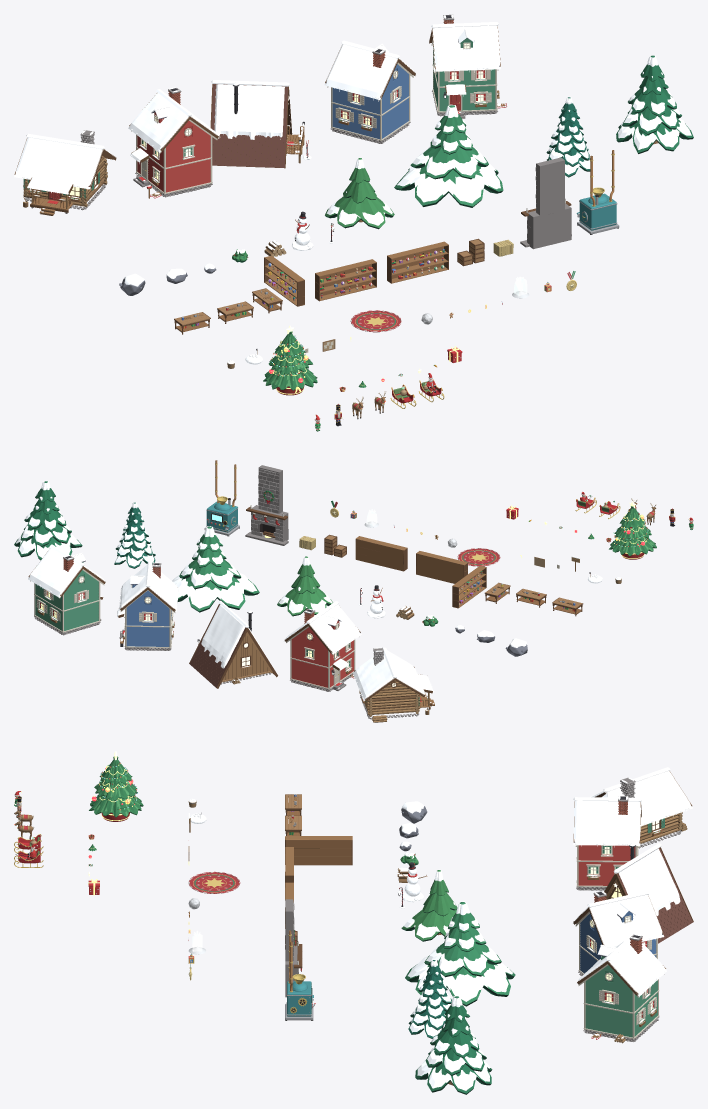
Rendered from Vitrina_todos_los_modelos.glb.
3 renders of one model, top to bottom at view 1: azimuth 30°, elevation 25°; view 2: azimuth 150°, elevation 25°; view 3: azimuth 270°, elevation 25°, orthographic. The views are drawn at different scales.
Parts seen in each view (by area): view 1: VT_Casa_2_CasaA, VT_Casa_3_CasaAzul, VT_Casa_1_CasaRoja, VT_Casa_4_CasaVerde, VT_Casa_0_CasaTroncos, VT_Pino_001, VT_Pino_003, VT_Chimenea, VT_Pino_000, VT_Pino_002, VT_Repisa_Sur_B, VT_Repisa_Sur_A (+4 smaller); view 2: VT_Casa_4_CasaVerde, VT_Casa_1_CasaRoja, VT_Casa_3_CasaAzul, VT_Casa_2_CasaA, VT_Casa_0_CasaTroncos, VT_Pino_001, VT_Pino_003, VT_Chimenea, VT_Pino_000, VT_Pino_002, VT_Repisa_Sur_B, VT_Maquina (+5 smaller); view 3: VT_Casa_4_CasaVerde, VT_Casa_1_CasaRoja, VT_Pino_001, VT_Casa_3_CasaAzul, VT_Pino_003, VT_Casa_2_CasaA, VT_Casa_0_CasaTroncos, VT_Pino_002, VT_Repisa_Oeste, VT_Pino_000, VT_Maquina, VT_Chimenea (+4 smaller).
Boxes of the visible parts, left/top/right/bottom form: VT_Casa_2_CasaA: left=210, top=80, right=311, bottom=168; VT_Casa_3_CasaAzul: left=324, top=40, right=416, bottom=143; VT_Casa_1_CasaRoja: left=128, top=87, right=218, bottom=198; VT_Casa_4_CasaVerde: left=429, top=14, right=506, bottom=118; VT_Casa_0_CasaTroncos: left=14, top=130, right=116, bottom=215; VT_Pino_001: left=394, top=104, right=503, bottom=207; VT_Pino_003: left=616, top=55, right=693, bottom=153; VT_Chimenea: left=520, top=157, right=571, bottom=249; VT_Pino_000: left=325, top=158, right=394, bottom=229; VT_Pino_002: left=546, top=96, right=590, bottom=177; VT_Repisa_Sur_B: left=387, top=241, right=448, bottom=283; VT_Repisa_Sur_A: left=315, top=259, right=376, bottom=301; VT_Casa_4_CasaVerde: left=28, top=544, right=106, bottom=635; VT_Casa_1_CasaRoja: left=284, top=601, right=361, bottom=691; VT_Casa_3_CasaAzul: left=117, top=561, right=178, bottom=650; VT_Casa_2_CasaA: left=189, top=600, right=277, bottom=688; VT_Casa_0_CasaTroncos: left=353, top=647, right=434, bottom=722; VT_Pino_001: left=172, top=526, right=259, bottom=612; VT_Pino_003: left=14, top=480, right=82, bottom=560; VT_Chimenea: left=245, top=465, right=288, bottom=545; VT_Pino_000: left=277, top=556, right=332, bottom=616; VT_Pino_002: left=114, top=502, right=155, bottom=568; VT_Repisa_Sur_B: left=355, top=536, right=407, bottom=571; VT_Maquina: left=204, top=460, right=239, bottom=536; VT_Casa_4_CasaVerde: left=577, top=932, right=666, bottom=1043; VT_Casa_1_CasaRoja: left=573, top=792, right=641, bottom=890; VT_Pino_001: left=405, top=901, right=515, bottom=1006; VT_Casa_3_CasaAzul: left=573, top=891, right=664, bottom=975; VT_Pino_003: left=415, top=995, right=492, bottom=1094; VT_Casa_2_CasaA: left=604, top=843, right=693, bottom=943; VT_Casa_0_CasaTroncos: left=590, top=767, right=692, bottom=848; VT_Pino_002: left=408, top=959, right=451, bottom=1038; VT_Repisa_Oeste: left=285, top=836, right=352, bottom=865; VT_Pino_000: left=401, top=869, right=457, bottom=941; VT_Maquina: left=285, top=930, right=315, bottom=1020; VT_Chimenea: left=285, top=899, right=303, bottom=997.
Bounding box in the file's own units: 61.32 × 9.26 × 60.53.
